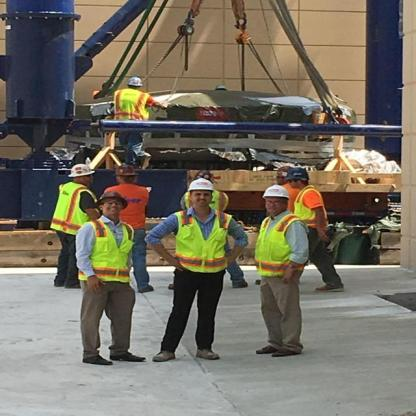bota: (109, 350, 146, 362), (82, 354, 112, 366), (152, 350, 178, 362), (272, 347, 302, 357), (196, 348, 220, 360), (255, 343, 279, 354), (316, 282, 344, 291)
capacete: (94, 191, 127, 217), (263, 184, 288, 214), (187, 179, 214, 206), (68, 163, 94, 186), (286, 166, 310, 188), (112, 164, 136, 184), (126, 76, 142, 90)
oculos: (99, 200, 125, 208)
